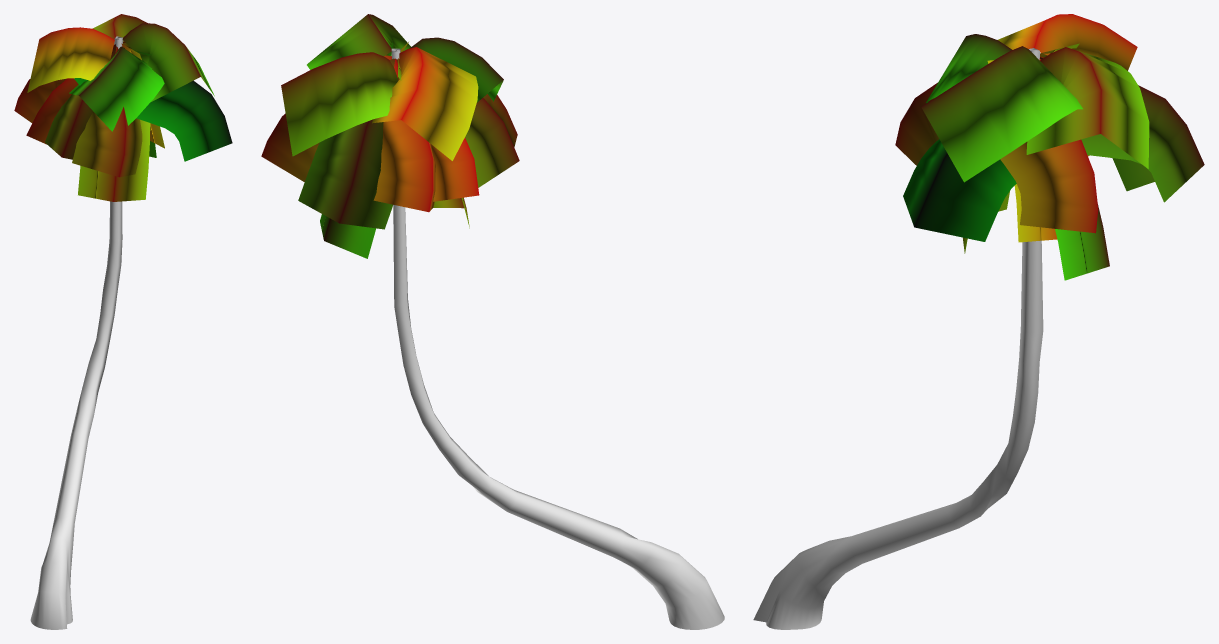
The model's file is Type_7_Tree_1.fbx.
3 views of the same model, side by side, from view 1: azimuth 30°, elevation 25°; view 2: azimuth 150°, elevation 25°; view 3: azimuth 270°, elevation 25° (orthographic). The views are drawn at different scales.
Parts seen in each view (by area): view 1: Leaf, Trunk; view 2: Leaf, Trunk; view 3: Leaf, Trunk.
Boxes of the visible parts, x1,y1,x2,y2 form: Leaf: (14, 14, 232, 201); Trunk: (30, 36, 123, 629); Leaf: (261, 14, 519, 258); Trunk: (391, 48, 724, 629); Leaf: (895, 14, 1204, 280); Trunk: (753, 48, 1043, 629).
Size of the model in its own units: 1141 by 2091 by 1237.
